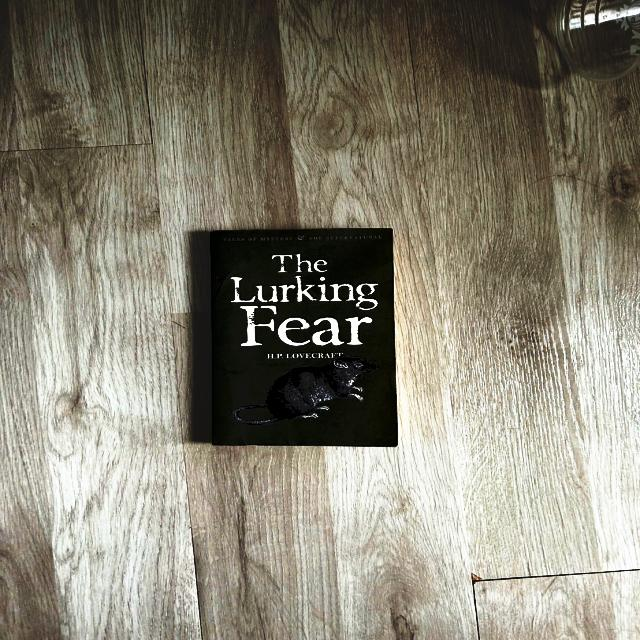Book: (210, 229, 398, 446)
